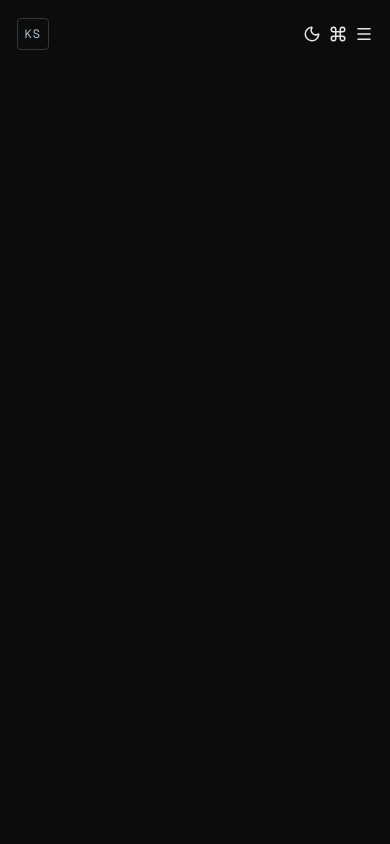
Test case: mobile menu route close › exposes mobile navigation links with accessible targets
Click the button named "Open navigation menu" at (364,34), box [355,25,373,43]
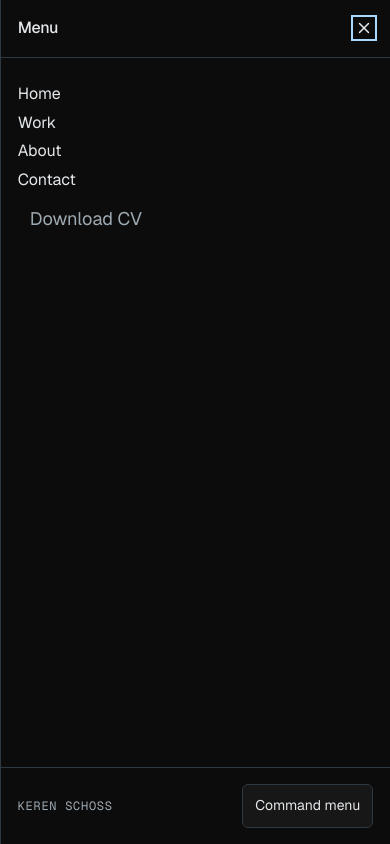
Expected: the link "Work" is shown, [18,112,56,133]
Expected: the link "About" is shown, [18,140,62,161]
Expected: the link "Contact" is shown, [18,169,76,190]
